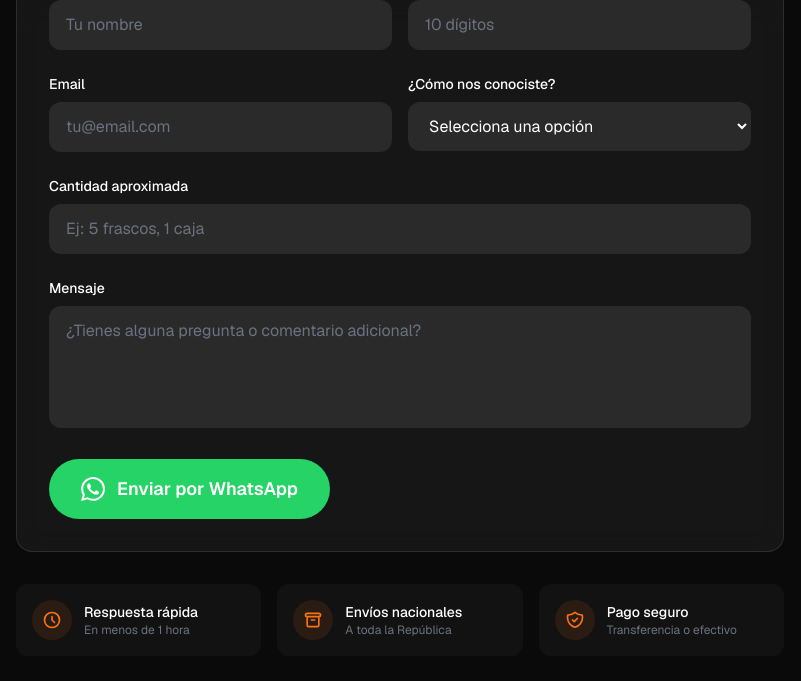
Test: ContactForm › Form Validation › clears error when user starts typing
(page scrolled)
Click the button "Enviar por WhatsApp". click: (190, 489)
box: [49,459,330,519]
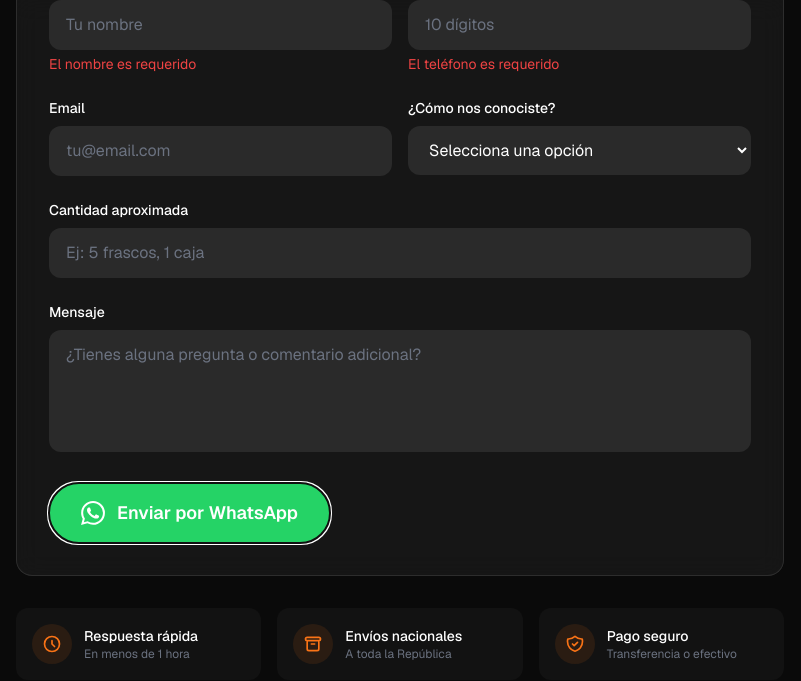
Result: the text "El nombre es requerido" is shown at [49,55,196,73]
Type "J" into the field labelled "Nombre completo *". click: (220, 25)
box: [49,0,392,50]
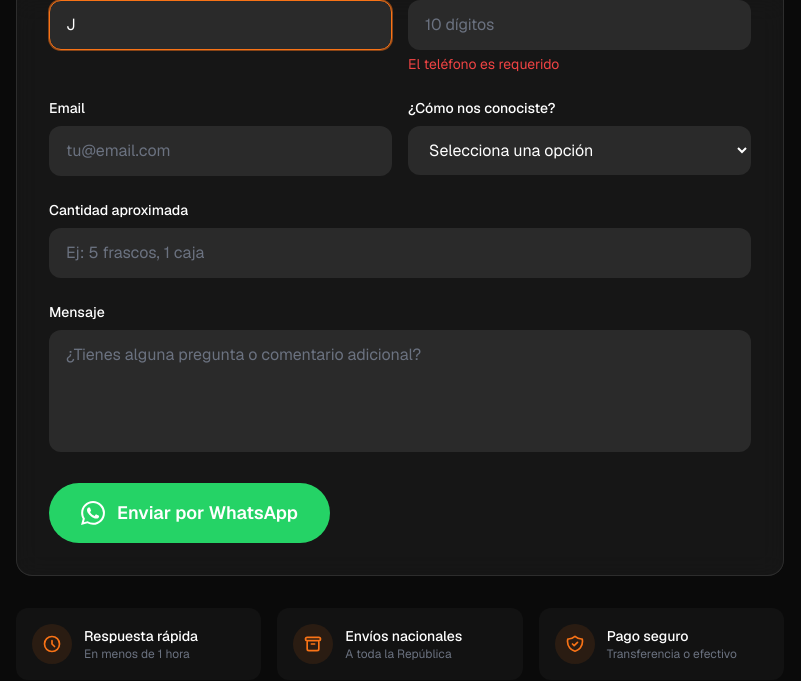
Result: the text "El nombre es requerido" is gone
